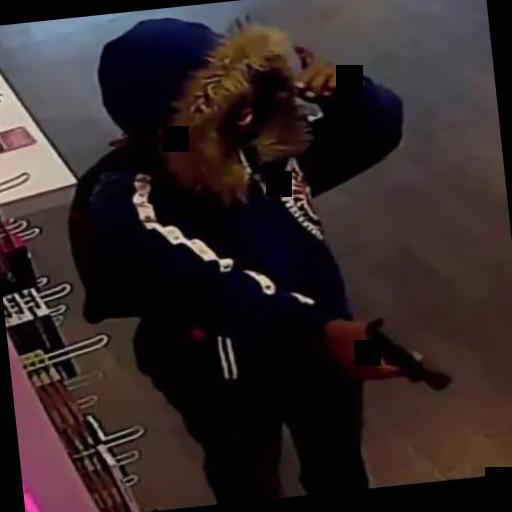Handgun: (347, 310, 452, 398)
